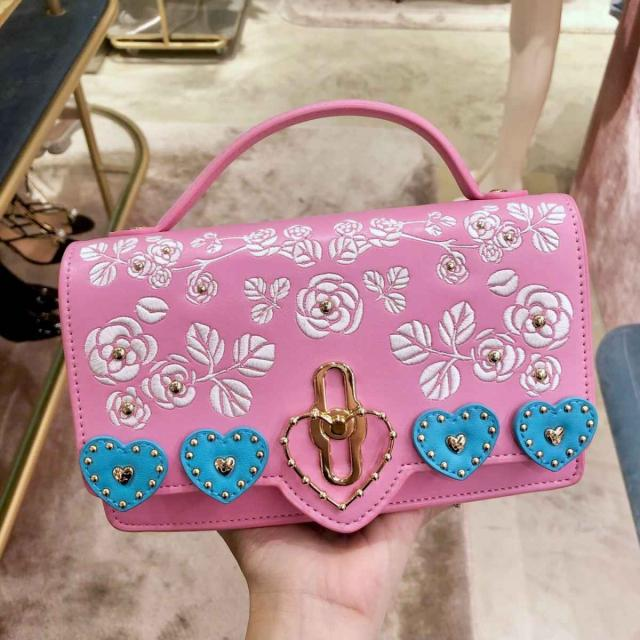handbag: (52, 191, 592, 563)
